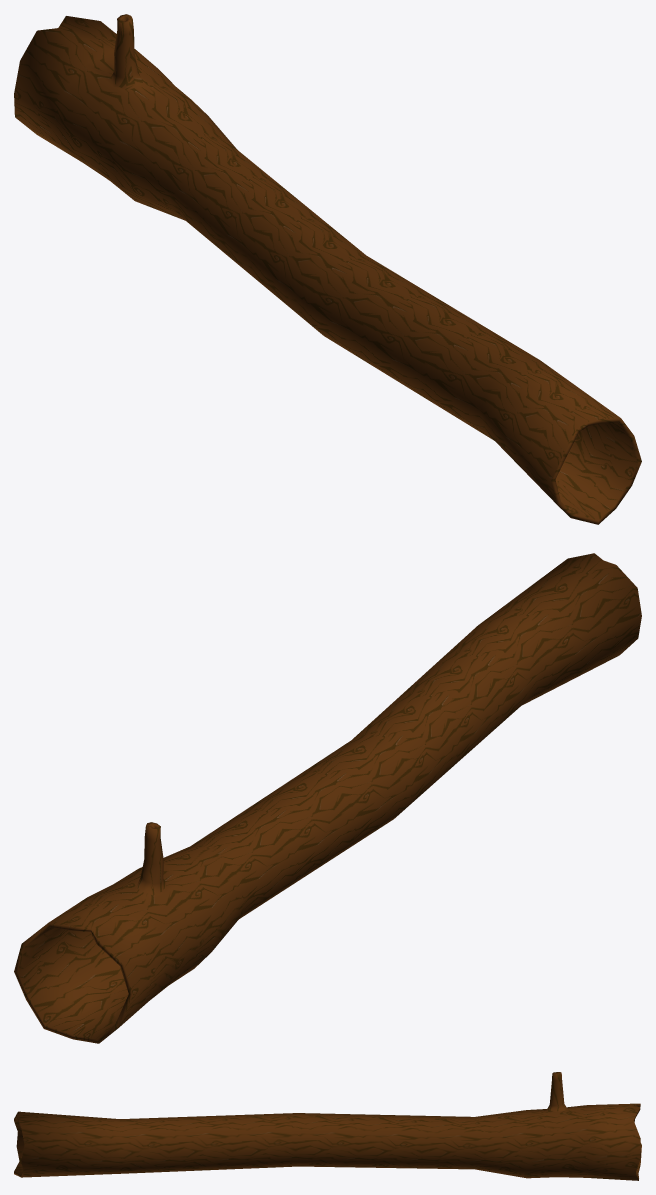
The model's file is SM_Section1_Log (1) 1.FBX.
3 views of the same model, one above another, from view 1: azimuth 30°, elevation 25°; view 2: azimuth 150°, elevation 25°; view 3: azimuth 270°, elevation 25° (orthographic). The views are drawn at different scales.
Visible parts, largest first — view 1: Tutorial_Log; view 2: Tutorial_Log; view 3: Tutorial_Log.
Boxes of the visible parts, box(x1,y1,x2,y2) form: Tutorial_Log: box(14, 14, 641, 524); Tutorial_Log: box(14, 553, 641, 1043); Tutorial_Log: box(14, 1072, 641, 1180).
Bounding box in the file's own units: 2.07 × 2.92 × 16.72.
